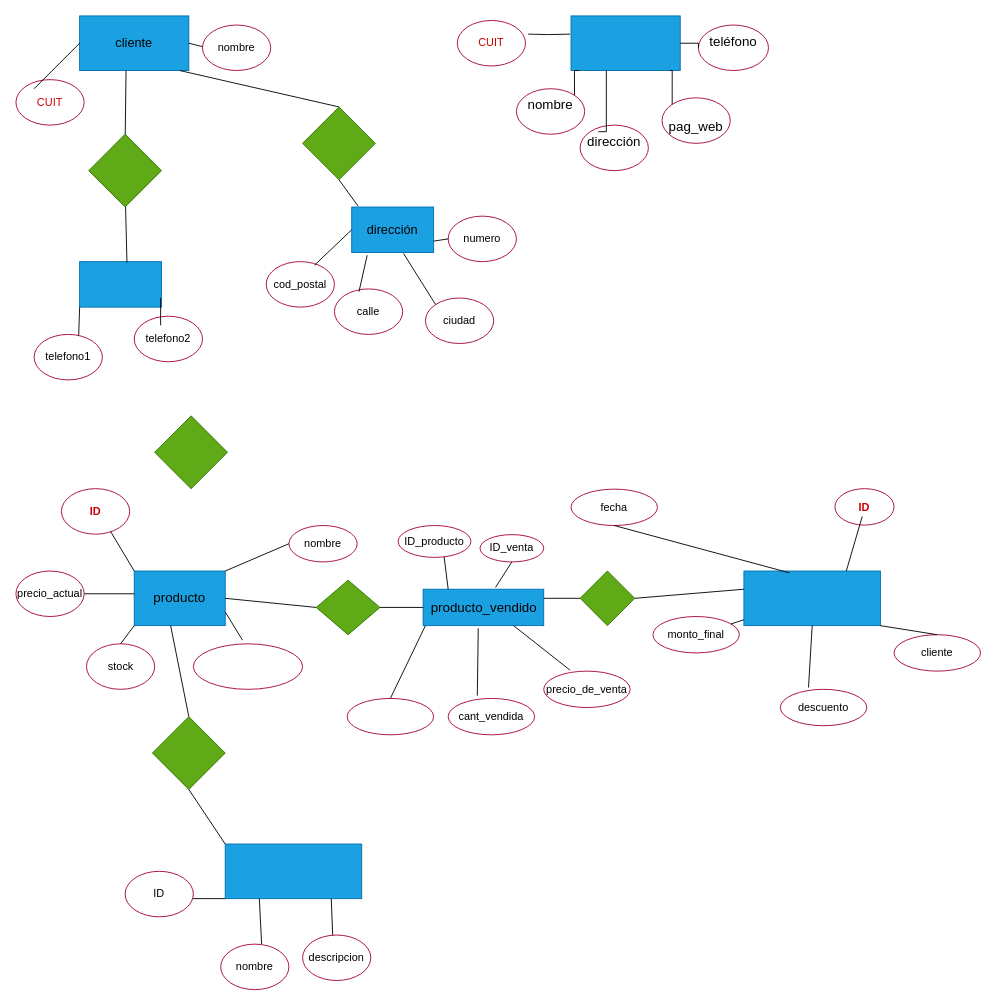
Image size: 996x1006. Some labels were removed from this diagram. The centre of each missing label's shape, as x and y in pixels:
"categoria" goes at (x=293, y=871).
"contacto" goes at (x=120, y=284).
"monto_total" goes at (x=390, y=716).
"nombre_proveedor" goes at (x=247, y=666).
"proveedor" goes at (x=625, y=43).
"venta" goes at (x=811, y=598).
